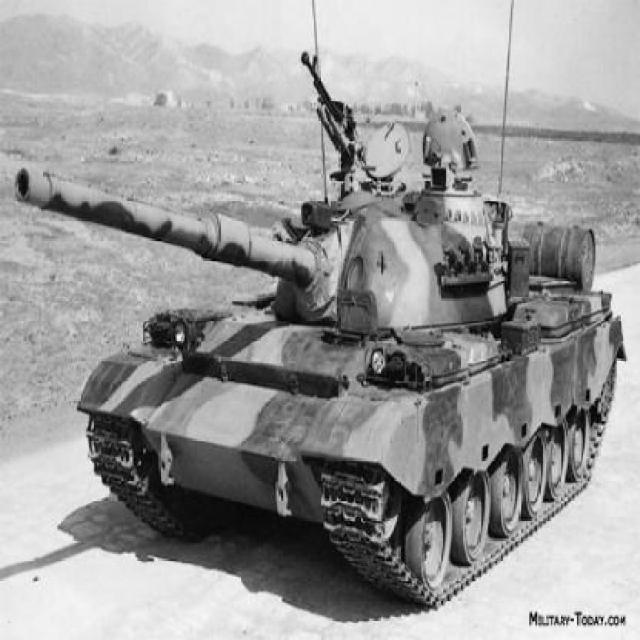Tank: (13, 104, 629, 610)
